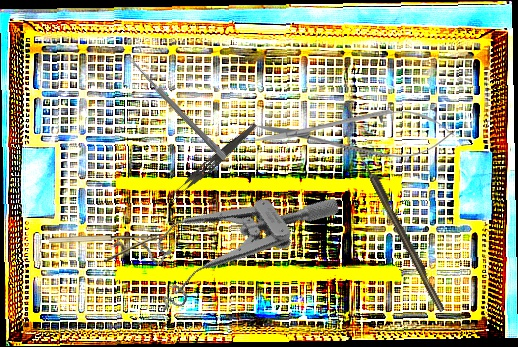Dressing Forceps: (165, 119, 260, 205)
Hook Surgical: (357, 150, 446, 314)
Micro Scissor: (254, 108, 455, 159)
Needle Holder: (49, 234, 163, 262)
Speculum: (123, 137, 344, 329)
Surgical Spoon: (125, 54, 228, 161)
